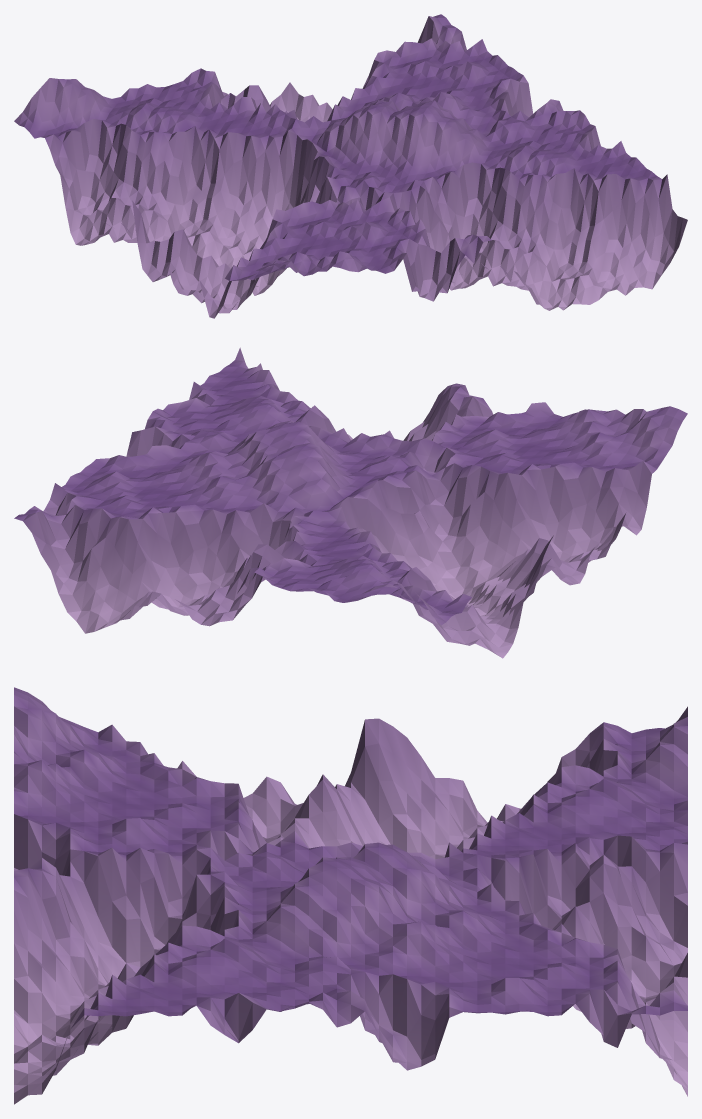
Rendered from alien_lod1.glb.
The picture shows the model from 3 angles, top to bottom: view 1: azimuth 30°, elevation 25°; view 2: azimuth 150°, elevation 25°; view 3: azimuth 270°, elevation 25°; orthographic projection. The views are drawn at different scales.
Parts seen in each view (by area): view 1: world; view 2: world; view 3: world.
Boxes of the visible parts, x1,y1,x2,y2 form: world: (14, 14, 687, 318); world: (14, 347, 687, 658); world: (14, 687, 687, 1104).
Size of the model in its own units: 2 by 0.6476 by 2.
